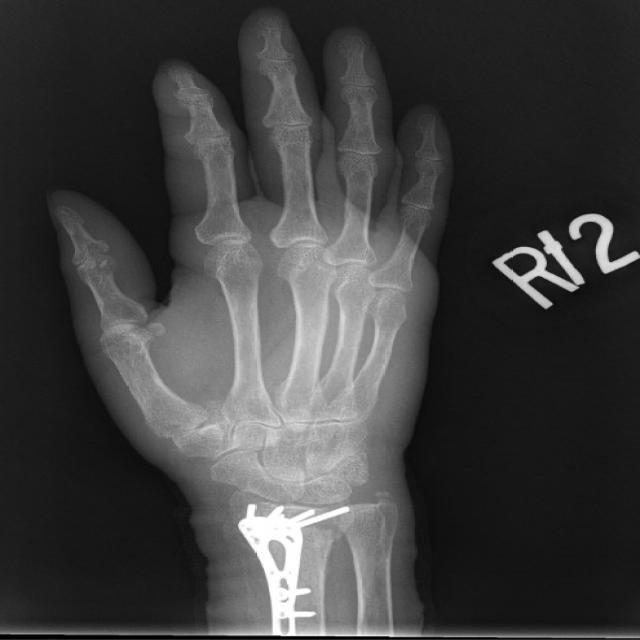x-ray: (220, 500, 356, 639)
